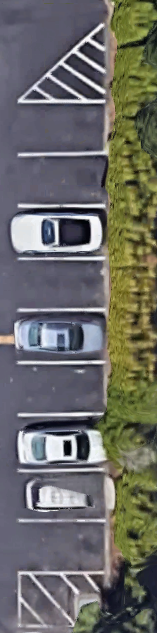Occupied: (17, 415, 104, 471), (17, 205, 105, 258), (17, 310, 105, 363), (17, 470, 104, 521)
Vacant: (17, 257, 105, 311), (17, 101, 105, 154), (17, 154, 105, 206), (17, 363, 105, 415), (18, 521, 104, 573)
